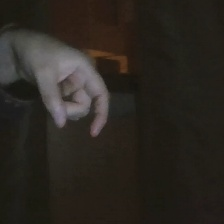Q: (7, 14, 119, 141)
